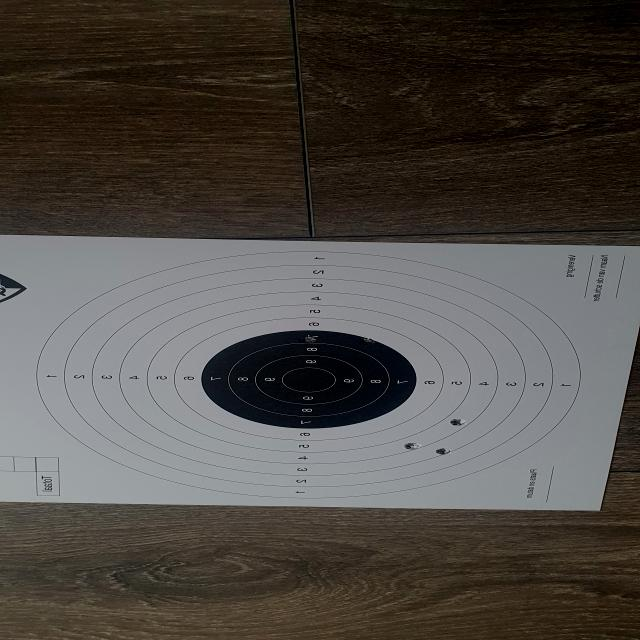3: (436, 448, 451, 455)
4: (403, 442, 421, 450), (450, 418, 466, 426)
7: (356, 338, 376, 345), (299, 336, 317, 343)
Target: (35, 250, 583, 499)
black_contour: (201, 330, 417, 429)
